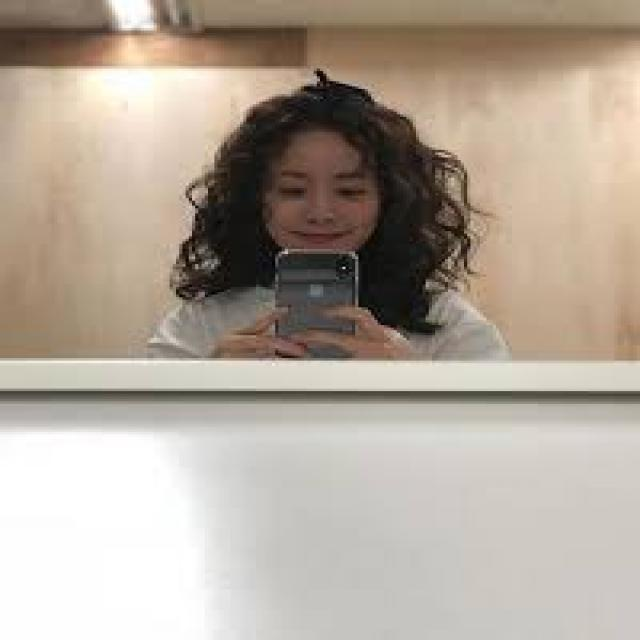Phone: (268, 244, 362, 359)
